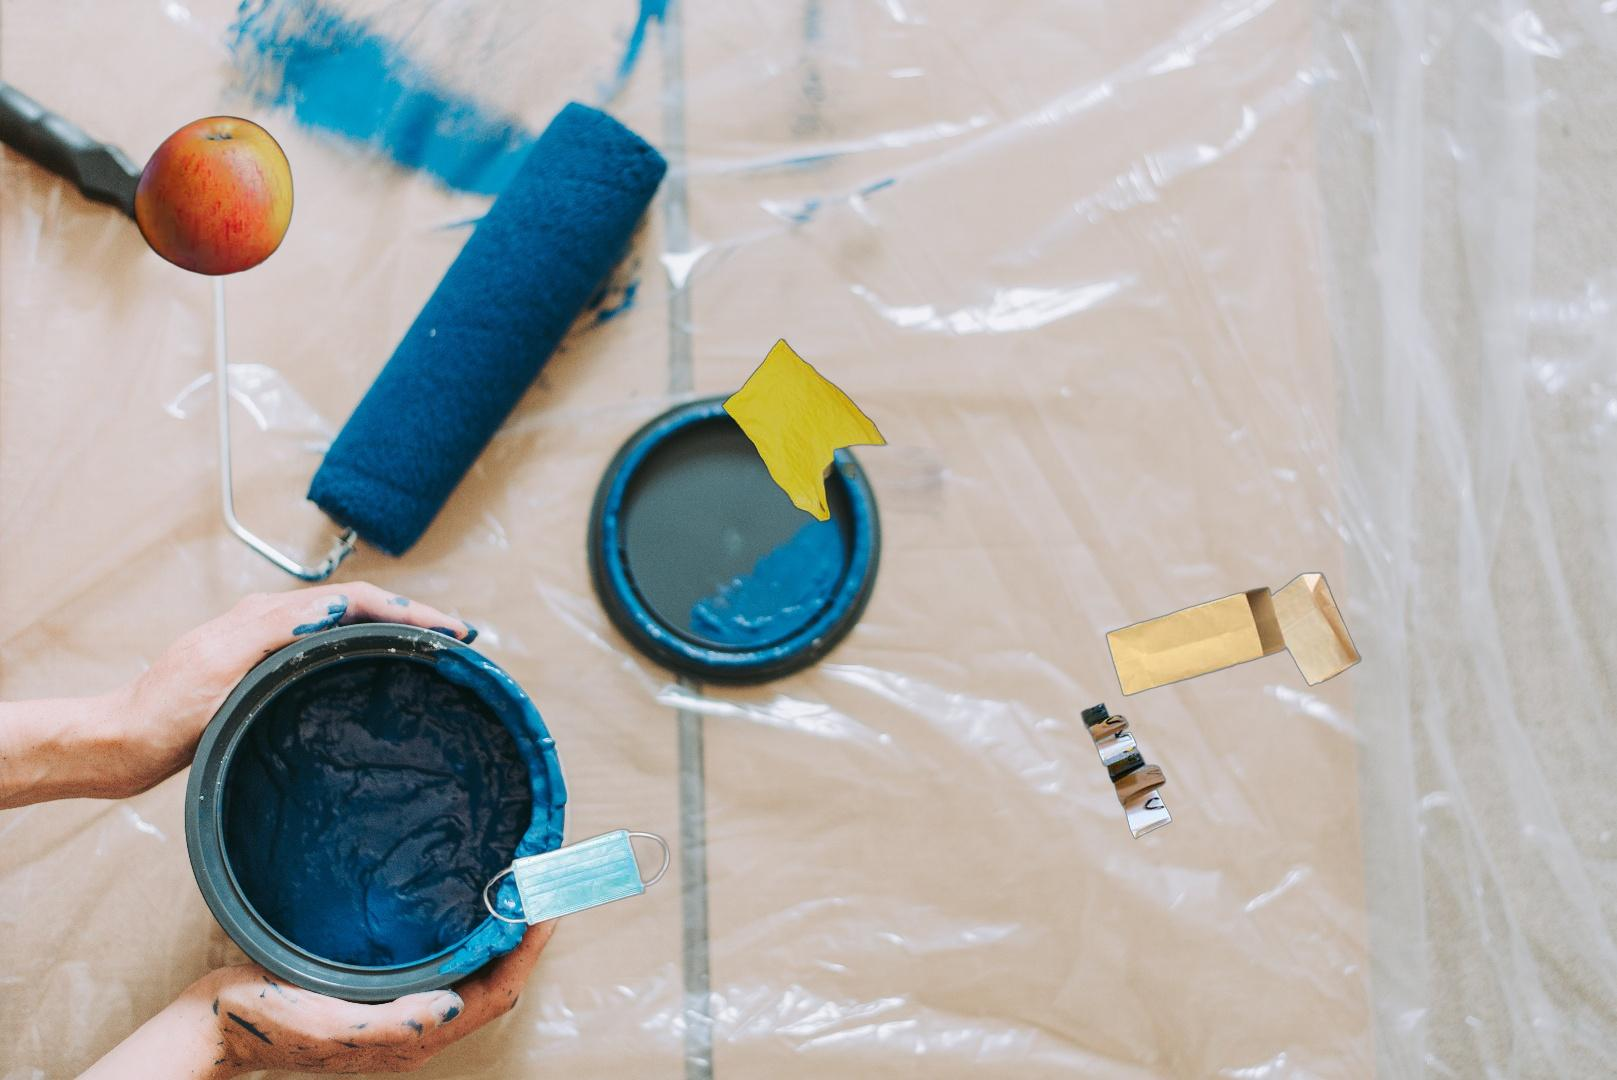biological: (131, 113, 295, 278)
paper-bag: (1078, 569, 1365, 843)
plastic-bag: (721, 331, 957, 622)
trash: (480, 827, 672, 929)
